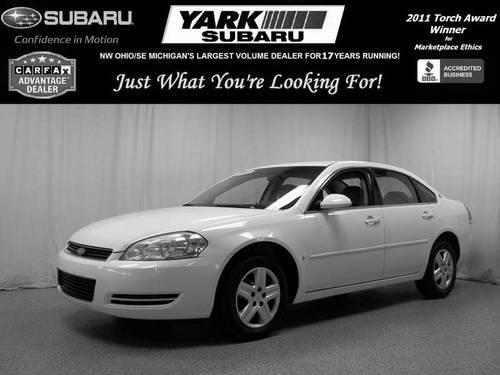car: (56, 160, 476, 343)
